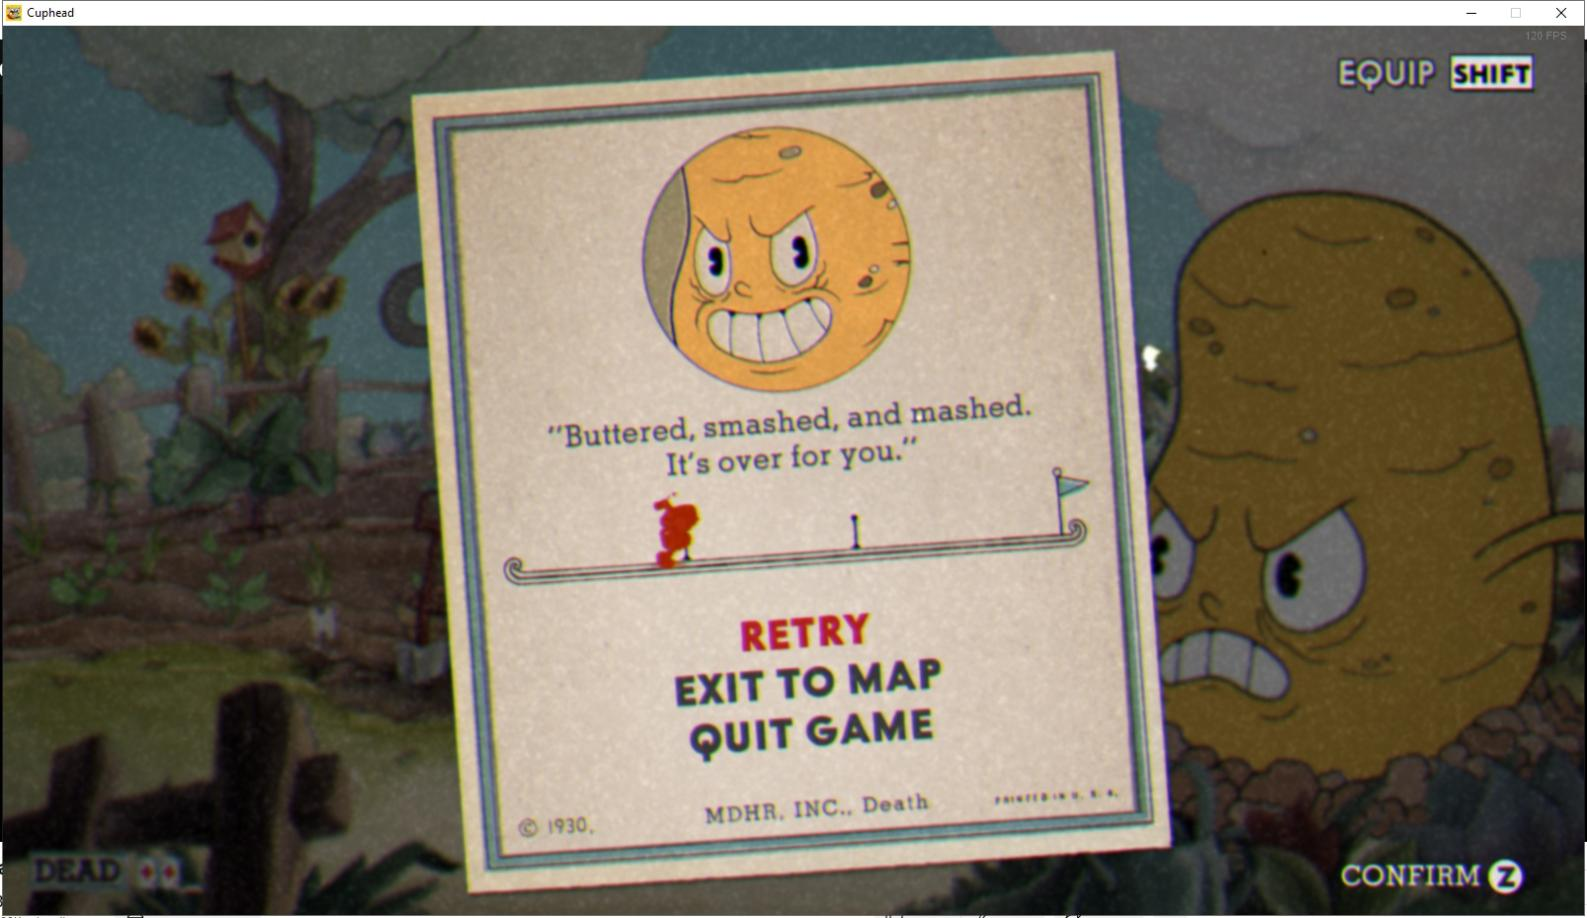player_progress: (647, 494, 700, 570)
potato_icon: (632, 120, 926, 395)
